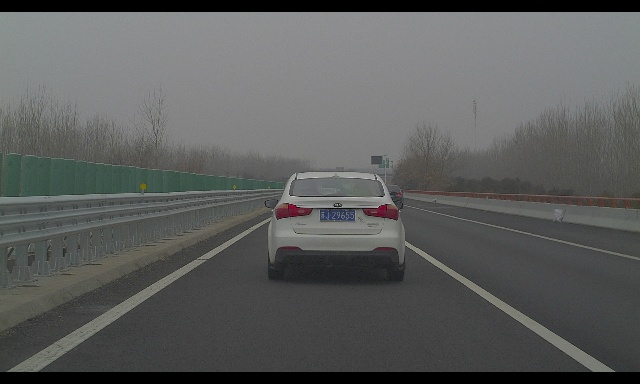car: (264, 171, 405, 281), (375, 184, 404, 208)
